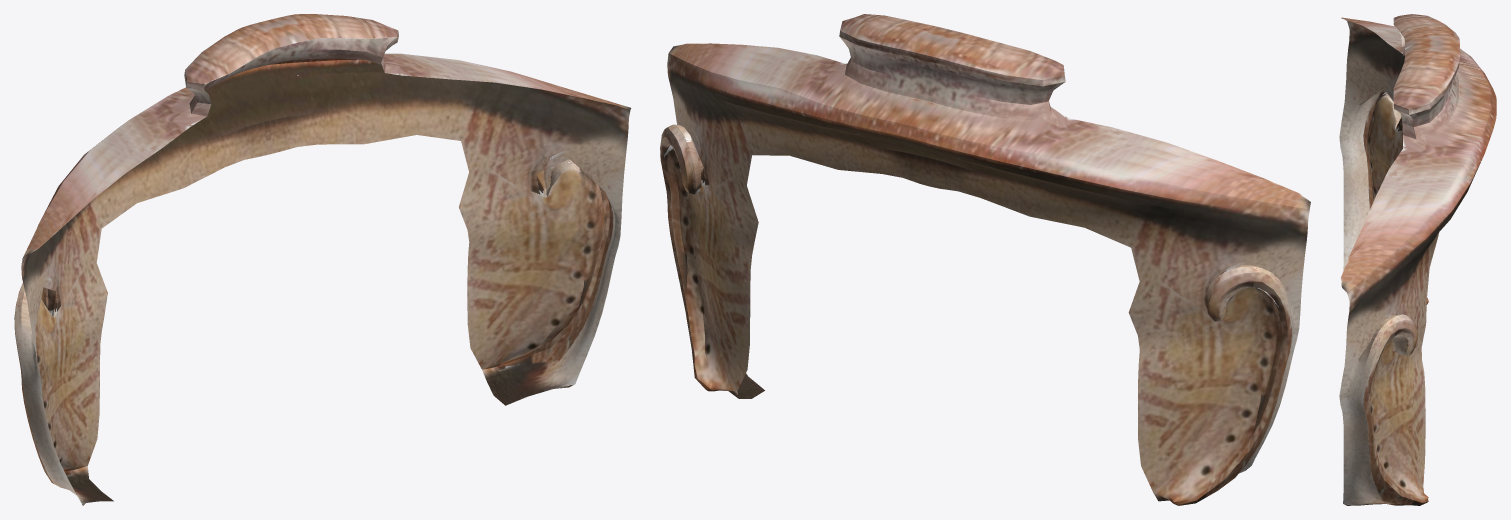
The model's file is mascara jama cortada.fbx.
The picture shows the model from 3 angles, left to right: view 1: azimuth 30°, elevation 25°; view 2: azimuth 150°, elevation 25°; view 3: azimuth 270°, elevation 25°; orthographic projection. The views are drawn at different scales.
Visible parts, largest first — view 1: Mascara Jama.001; view 2: Mascara Jama.001; view 3: Mascara Jama.001.
Boxes of the visible parts, x1=… form: Mascara Jama.001: x1=14, y1=14, x2=631, y2=505; Mascara Jama.001: x1=660, y1=14, x2=1310, y2=505; Mascara Jama.001: x1=1339, y1=14, x2=1496, y2=505.
Bounding box in the file's own units: 73.74 × 18.03 × 47.02.
